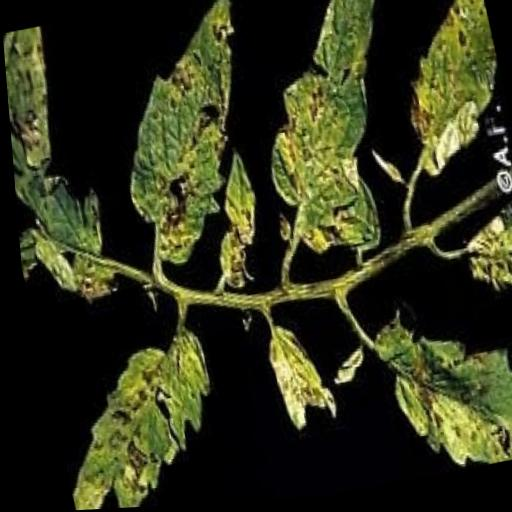Septoria: (85, 0, 281, 278), (226, 0, 429, 264), (34, 330, 229, 512), (2, 22, 117, 324), (359, 305, 512, 486), (381, 0, 512, 187), (191, 148, 271, 295), (253, 321, 331, 433), (454, 207, 512, 304)
